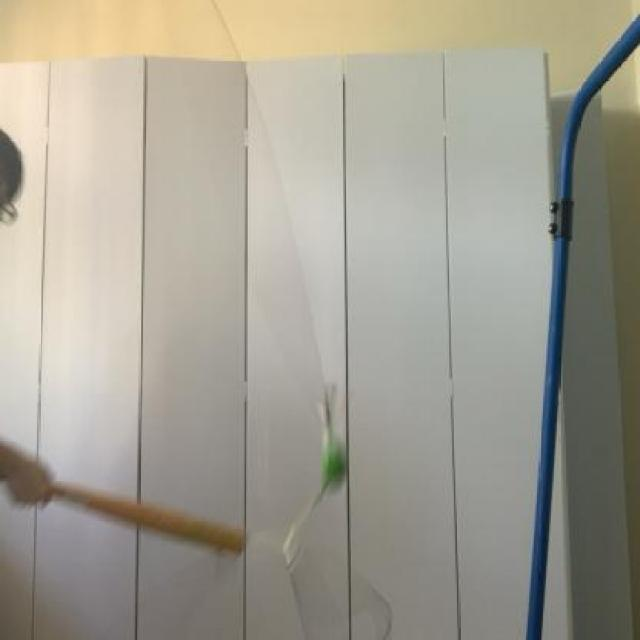baseball: (311, 442, 355, 493)
